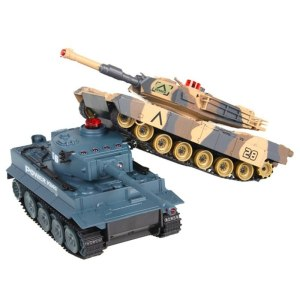Battle Tank: (1, 142, 182, 261)
